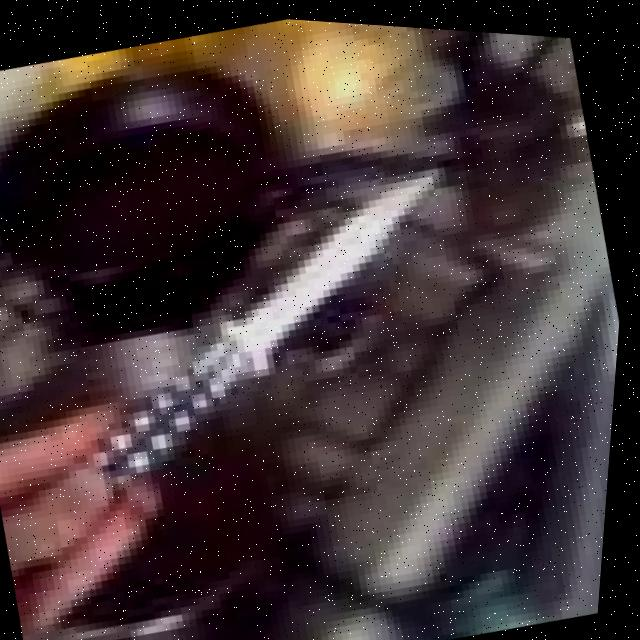knife: (23, 142, 499, 518)
